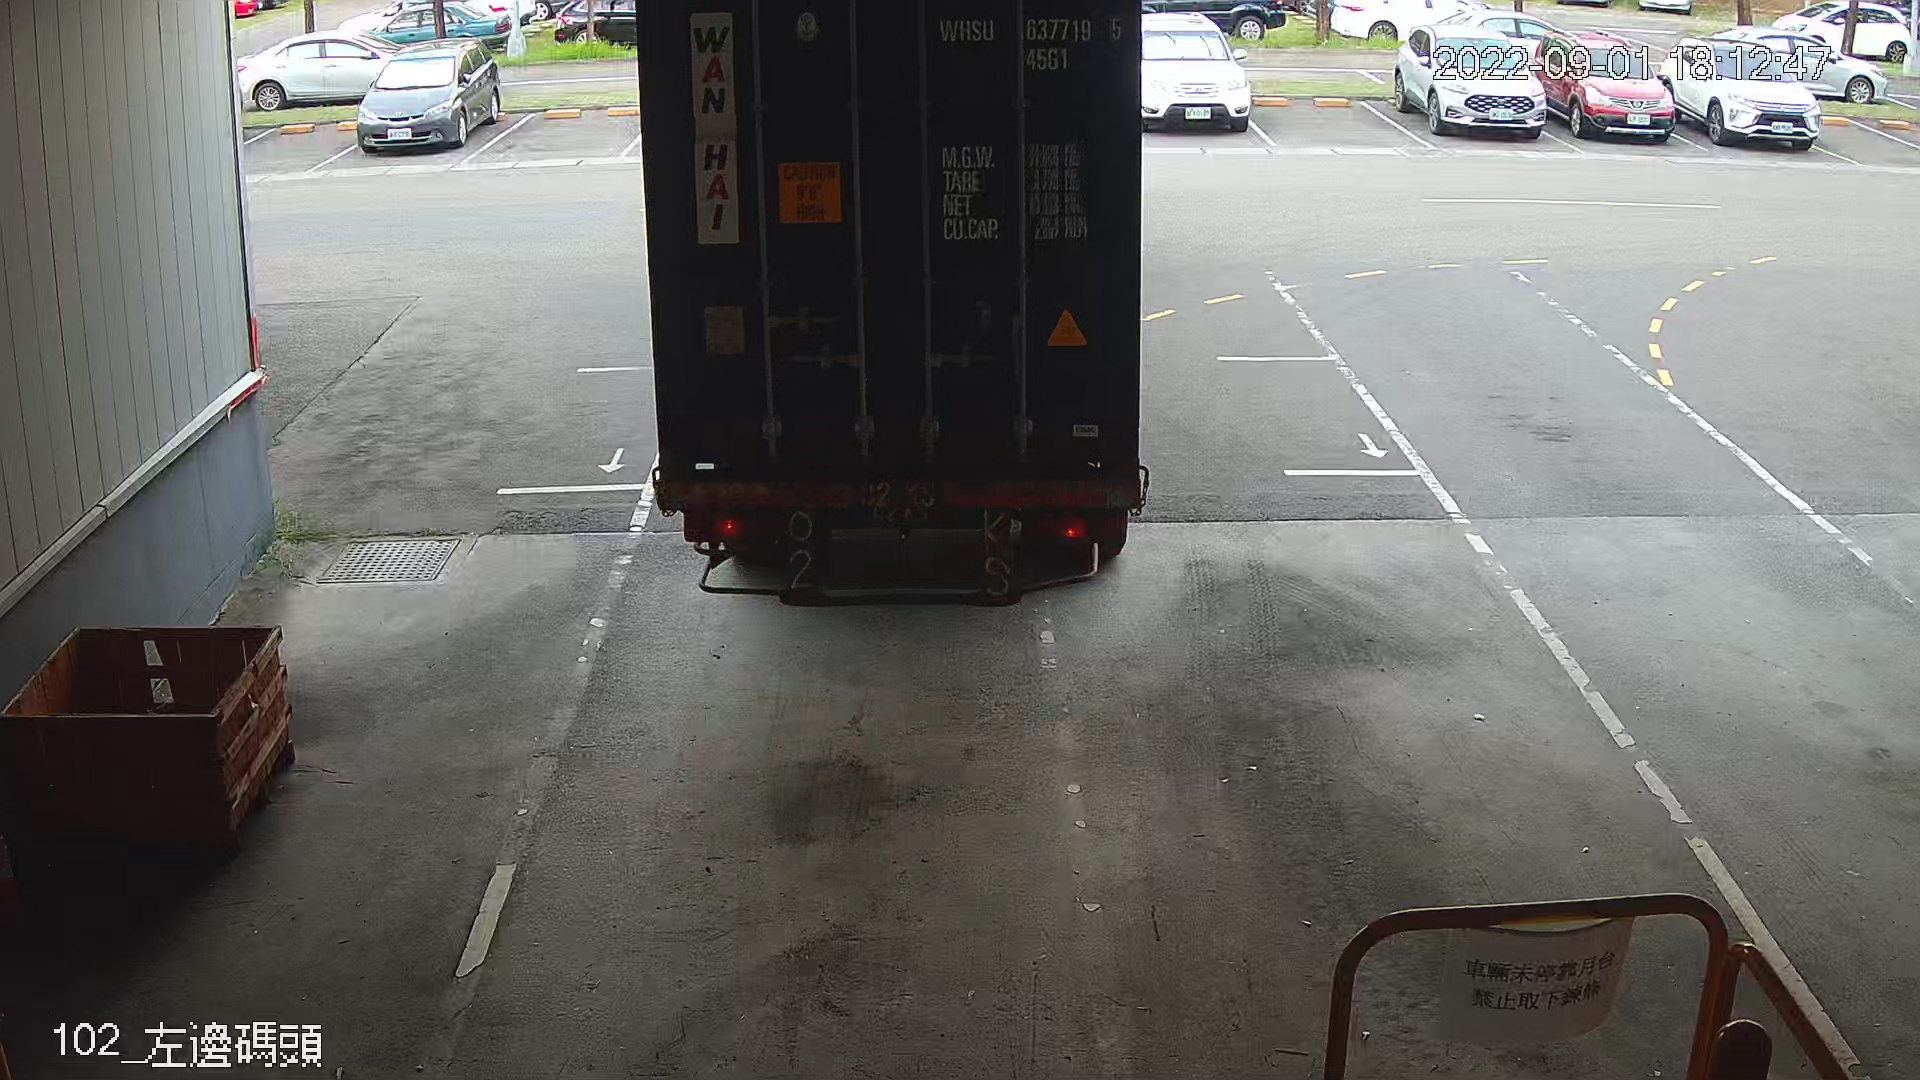container: (934, 5, 1134, 82)
